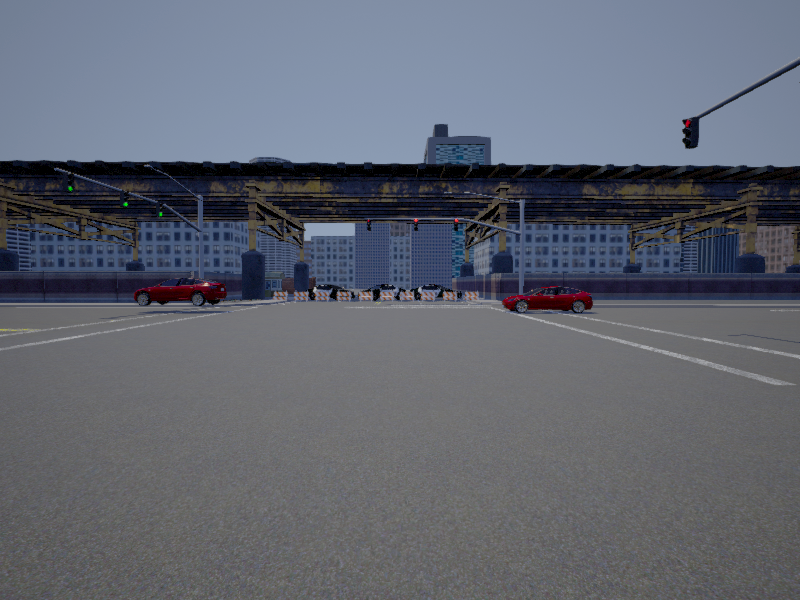Attacker: (134, 278, 226, 306)
Benign: (501, 286, 593, 314)
